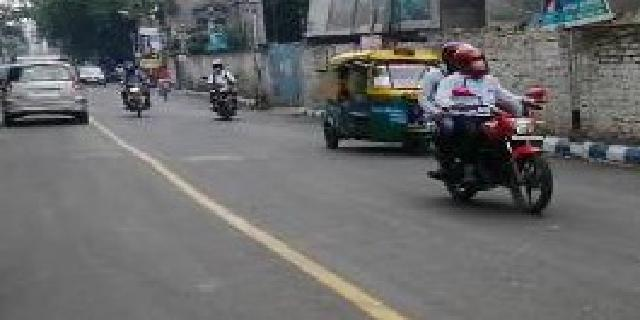Autorickshaw: (319, 48, 435, 155)
Car: (6, 53, 88, 128)
Motorbike: (417, 49, 567, 212), (202, 61, 245, 120), (116, 62, 155, 121)
